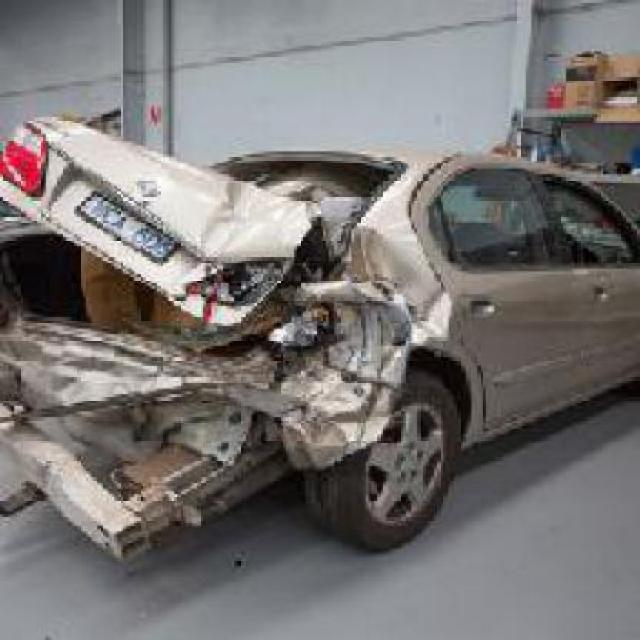damaged-rear-bumper: (2, 379, 278, 490)
damaged-trunk: (10, 112, 312, 342)
